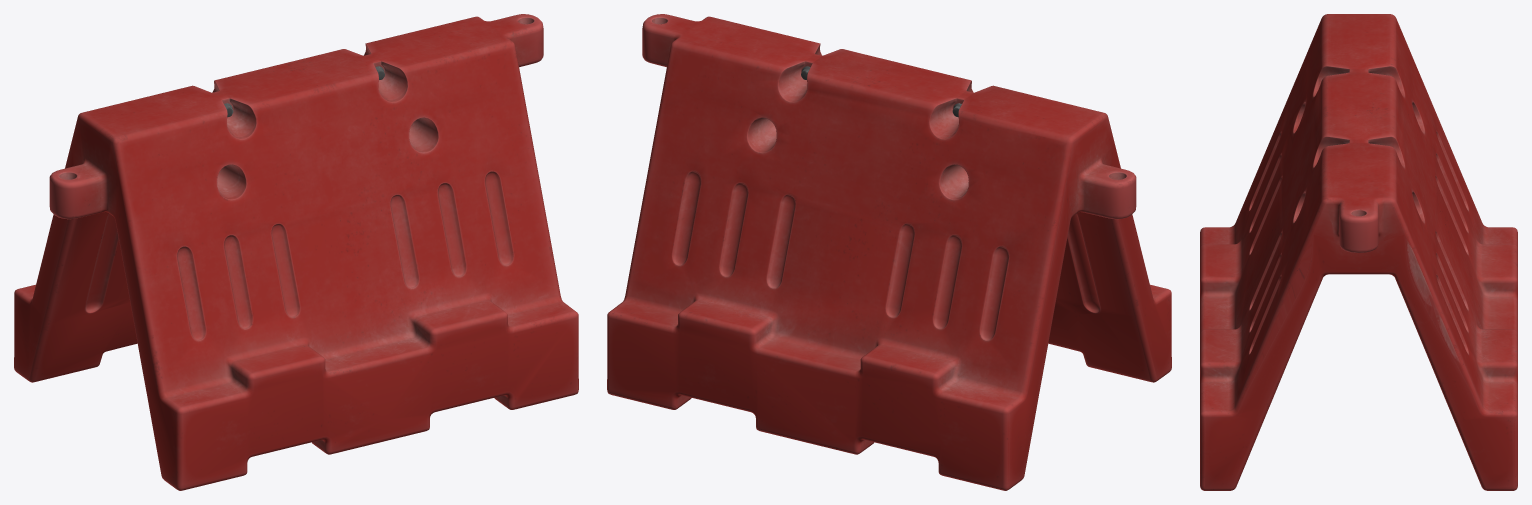
File: AM218_055redнов.fbx
3 views of the same model, side by side, from view 1: azimuth 30°, elevation 25°; view 2: azimuth 150°, elevation 25°; view 3: azimuth 270°, elevation 25° (orthographic). The views are drawn at different scales.
Visible parts, largest first — view 1: AM218_055_Barrier_01_LOD0; view 2: AM218_055_Barrier_01_LOD0; view 3: AM218_055_Barrier_01_LOD0.
Part boxes in pixels (x1,y1,x2,y2): AM218_055_Barrier_01_LOD0: (14, 14, 578, 490); AM218_055_Barrier_01_LOD0: (607, 14, 1171, 490); AM218_055_Barrier_01_LOD0: (1200, 14, 1517, 490).
Size of what is drawn, in the model's own units: 1539 by 927 by 912.
